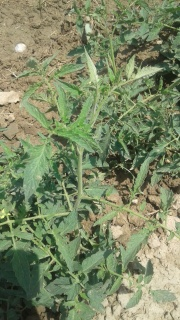tomato plant: (68, 5, 175, 175), (1, 184, 129, 310)
